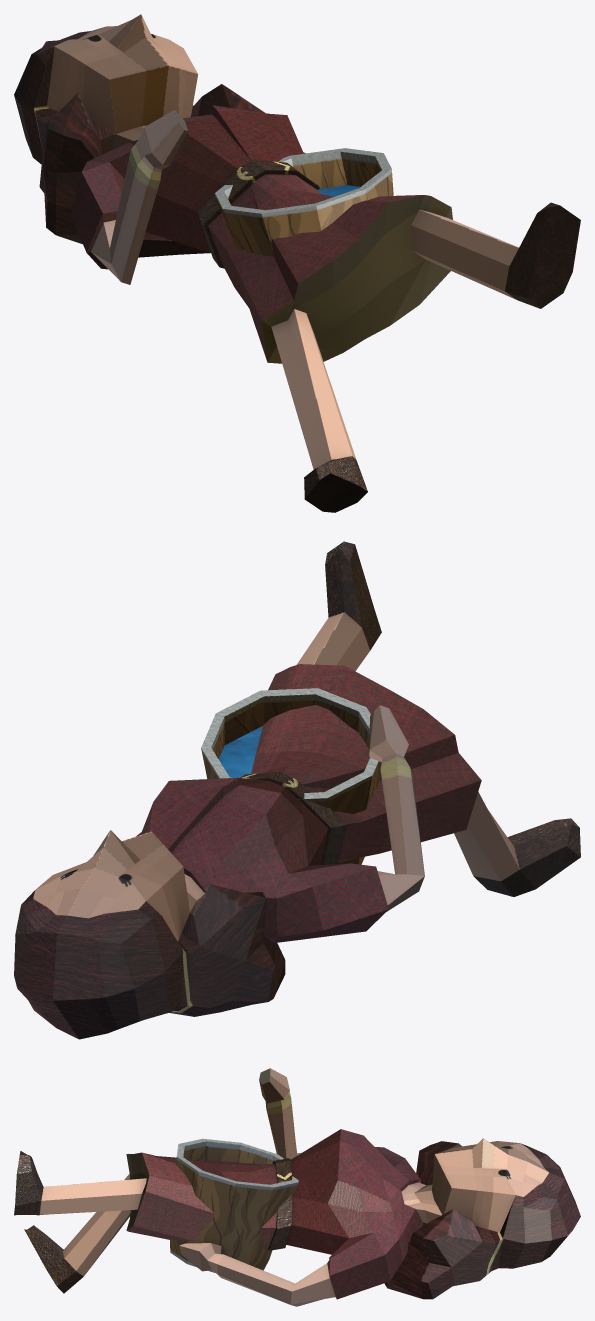
File: Walk_Aldeana_19.obj
3 views of the same model, one above another, from view 1: azimuth 30°, elevation 25°; view 2: azimuth 150°, elevation 25°; view 3: azimuth 270°, elevation 25° (orthographic). The views are drawn at different scales.
Parts seen in each view (by area): view 1: Aldeana.001; view 2: Aldeana.001; view 3: Aldeana.001.
Boxes of the visible parts, x1=… form: Aldeana.001: x1=14, y1=14, x2=580, y2=512; Aldeana.001: x1=14, y1=541, x2=580, y2=1039; Aldeana.001: x1=14, y1=1068, x2=580, y2=1306.
Size of the model in its own units: 0.9868 by 0.9978 by 2.39.
